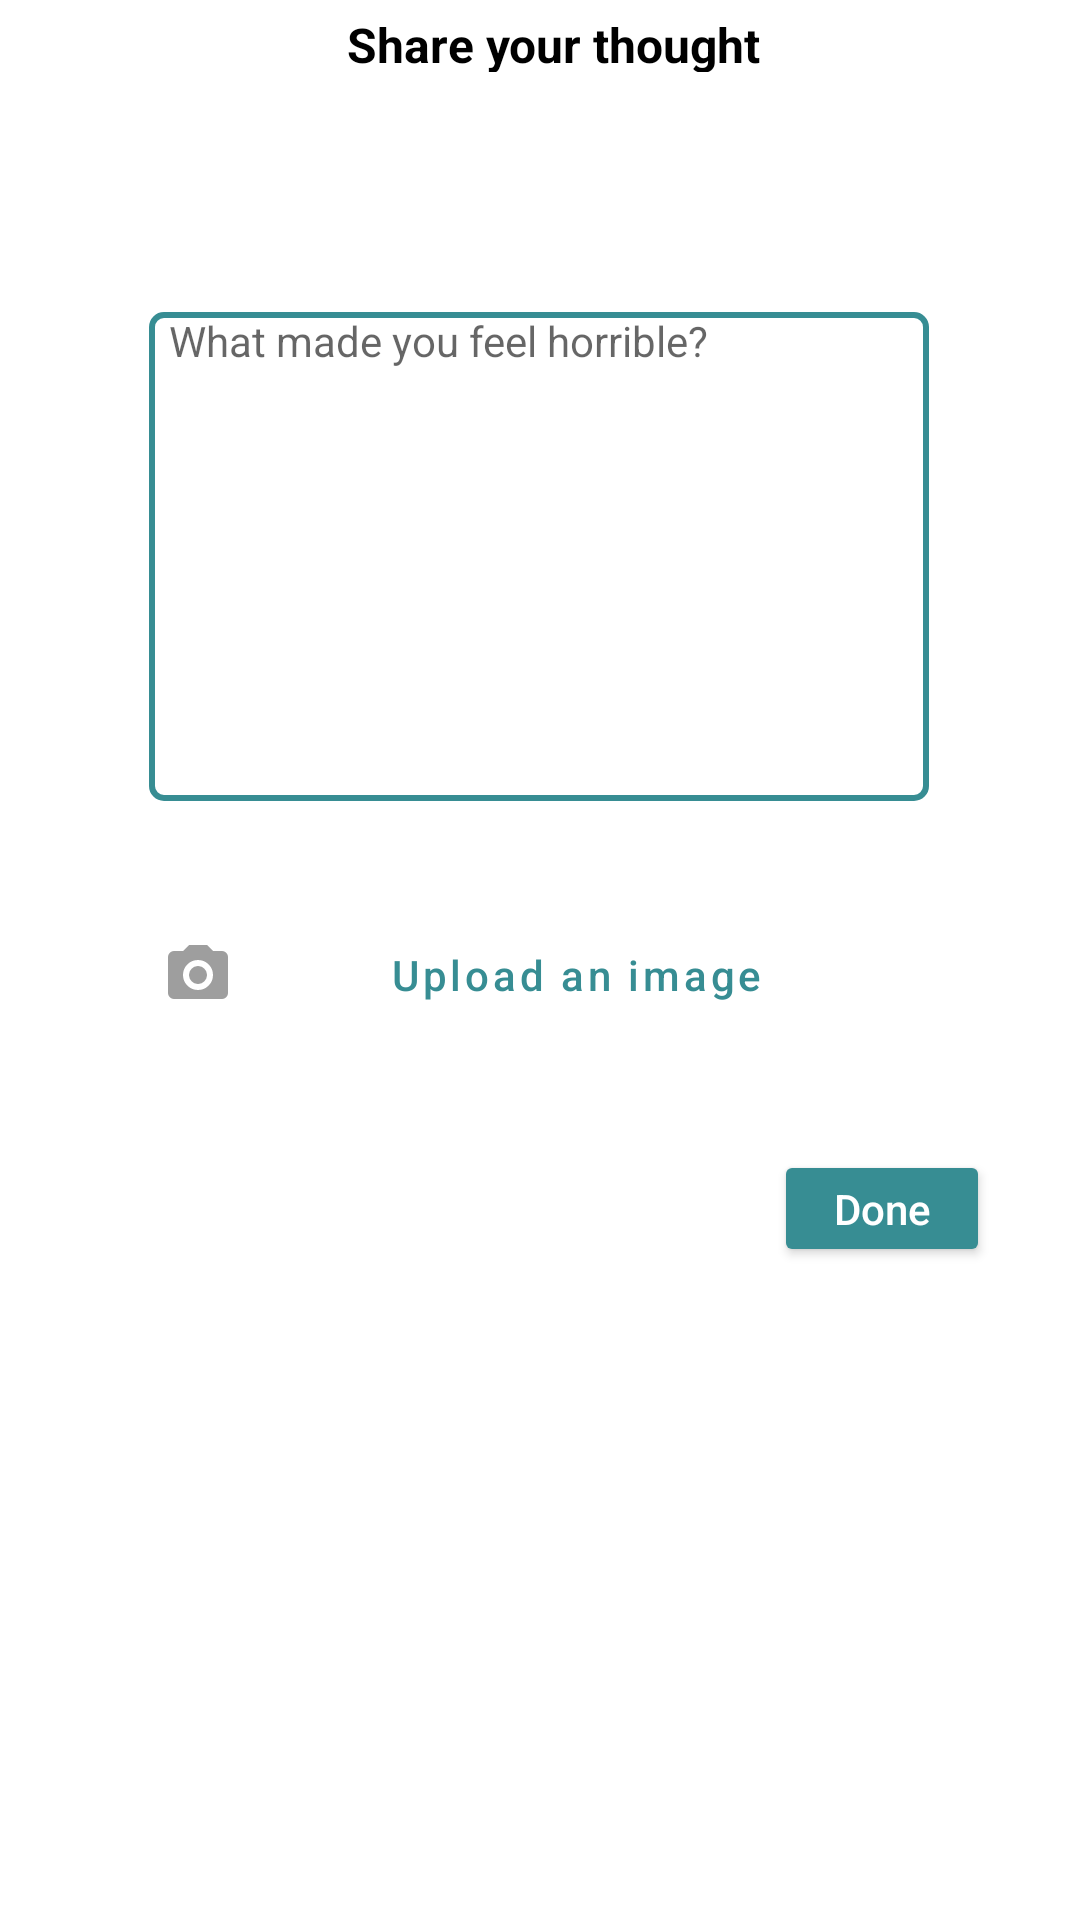

Icons on this 1080×1920 Android screen, each with the point to tap as (x,y):
camera: (198,972)
